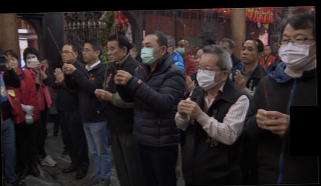with_mask: (277, 29, 314, 69), (196, 62, 221, 91), (140, 40, 162, 66), (174, 40, 186, 57), (25, 53, 38, 67)
without_mask: (239, 44, 257, 63), (105, 44, 119, 64), (61, 48, 75, 64), (81, 46, 94, 62), (5, 55, 17, 70), (262, 47, 270, 57)
